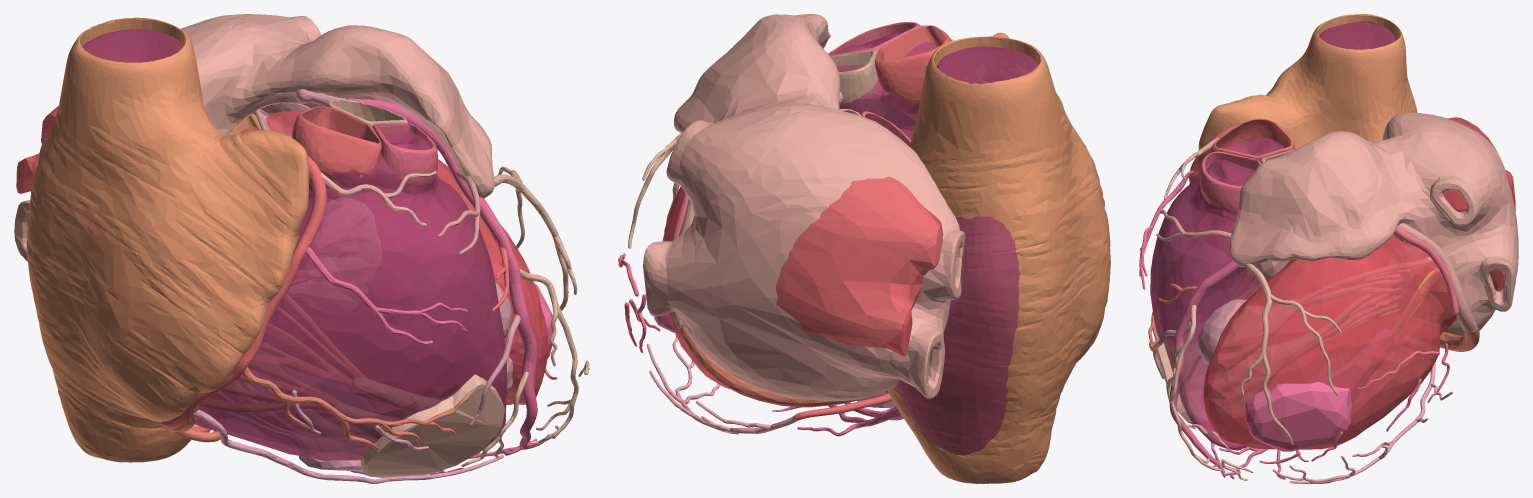
Rendered from cuore.glb.
3 views of the same model, side by side, from view 1: azimuth 30°, elevation 25°; view 2: azimuth 150°, elevation 25°; view 3: azimuth 270°, elevation 25° (orthographic). The views are drawn at different scales.
Visible parts, largest first — view 1: wall of right atrium, cavity of right ventricle, wall of left atrium, anterior papillary muscle of right ventricle, septal papillary muscle of right ventricle, anterior leaflet of tricuspid valve, right anterior cusp of pulmonary valve, cavity of left ventricle, trunk of anterior interventricular branch of left coronary a, left anterior cusp of pulmonary valve, diagonal branch of anterior descending branch of left corona, trunk of right coronary artery (+16 smaller); view 2: wall of left atrium, wall of right atrium, cavity of left atrium, cavity of right atrium, right anterior cusp of pulmonary valve, cavity of right ventricle, posterior cusp of pulmonary valve, first posterior ventricular branch of right coronary artery, coronary sinus, left anterior cusp of pulmonary valve, circumflex branch of left coronary artery, posterior interventricular branch of right coronary artery (+3 smaller); view 3: wall of left atrium, cavity of left ventricle, wall of right atrium, cavity of right ventricle, anterior wall of left ventricle, anterolateral head of lateral papillary muscle of left ventr, anterior leaflet of mitral valve, diagonal branch of anterior descending branch of left corona, left anterior cusp of pulmonary valve, right anterior cusp of pulmonary valve, anterior papillary muscle of right ventricle, inferior wall of left ventricle (+11 smaller).
Boxes of the visible parts, left/top/right/bottom form: wall of right atrium: left=26, top=17, right=309, bottom=462; cavity of right ventricle: left=195, top=130, right=507, bottom=460; wall of left atrium: left=14, top=14, right=494, bottom=261; anterior papillary muscle of right ventricle: left=334, top=374, right=504, bottom=477; septal papillary muscle of right ventricle: left=287, top=198, right=381, bottom=313; anterior leaflet of tricuspid valve: left=200, top=294, right=366, bottom=411; right anterior cusp of pulmonary valve: left=292, top=106, right=381, bottom=193; cavity of left ventricle: left=240, top=111, right=548, bottom=404; trunk of anterior interventricular branch of left coronary a: left=346, top=98, right=537, bottom=449; left anterior cusp of pulmonary valve: left=371, top=122, right=437, bottom=198; diagonal branch of anterior descending branch of left corona: left=494, top=166, right=589, bottom=444; trunk of right coronary artery: left=159, top=156, right=326, bottom=432; wall of left atrium: left=643, top=14, right=965, bottom=401; wall of right atrium: left=888, top=32, right=1110, bottom=483; cavity of left atrium: left=775, top=176, right=943, bottom=356; cavity of right atrium: left=895, top=46, right=1037, bottom=455; right anterior cusp of pulmonary valve: left=875, top=25, right=951, bottom=113; cavity of right ventricle: left=836, top=34, right=939, bottom=393; posterior cusp of pulmonary valve: left=830, top=50, right=881, bottom=113; first posterior ventricular branch of right coronary artery: left=646, top=333, right=796, bottom=434; coronary sinus: left=678, top=326, right=860, bottom=407; left anterior cusp of pulmonary valve: left=828, top=22, right=921, bottom=101; circumflex branch of left coronary artery: left=618, top=192, right=688, bottom=352; posterior interventricular branch of right coronary artery: left=772, top=402, right=903, bottom=436; wall of left atrium: left=1229, top=112, right=1518, bottom=335; cavity of left ventricle: left=1203, top=234, right=1457, bottom=449; wall of right atrium: left=1188, top=14, right=1417, bottom=180; cavity of right ventricle: left=1150, top=137, right=1283, bottom=450; anterior wall of left ventricle: left=1245, top=328, right=1394, bottom=451; anterolateral head of lateral papillary muscle of left ventr: left=1198, top=299, right=1323, bottom=415; anterior leaflet of mitral valve: left=1297, top=241, right=1432, bottom=341; diagonal branch of anterior descending branch of left corona: left=1169, top=263, right=1341, bottom=480; left anterior cusp of pulmonary valve: left=1199, top=151, right=1260, bottom=218; right anterior cusp of pulmonary valve: left=1210, top=118, right=1294, bottom=163; anterior papillary muscle of right ventricle: left=1153, top=338, right=1208, bottom=423; inferior wall of left ventricle: left=1379, top=268, right=1458, bottom=367.
Size of the model in its own units: 116 by 105 by 106.
